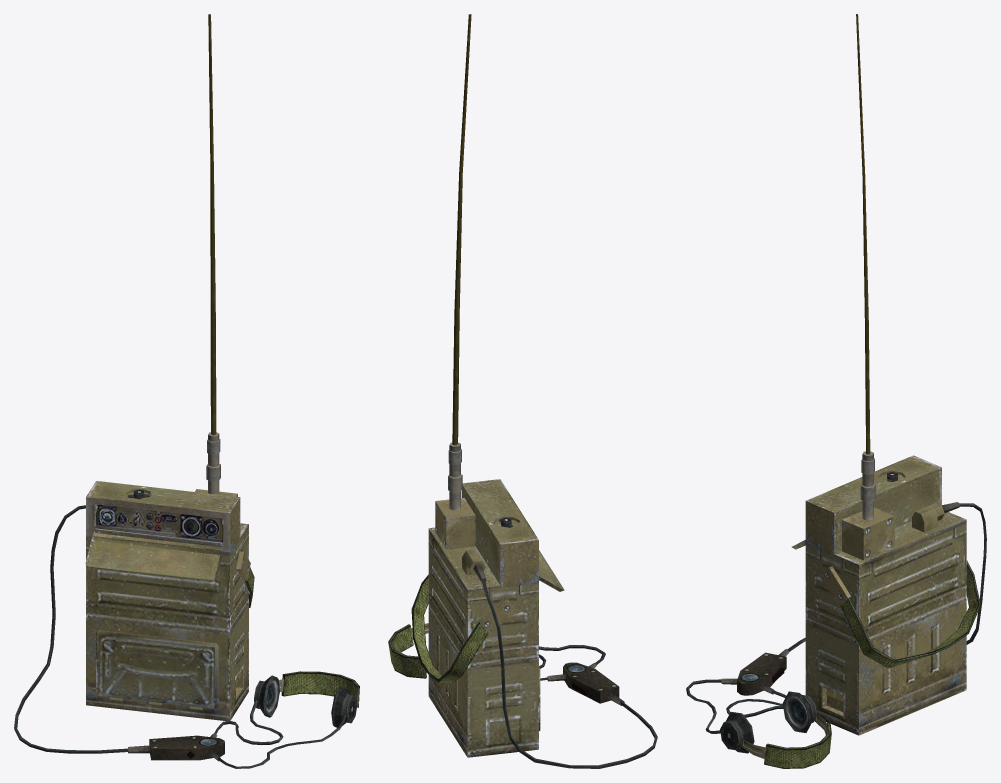
The model's file is Radio.FBX.
The picture shows the model from 3 angles, left to right: view 1: azimuth 30°, elevation 25°; view 2: azimuth 150°, elevation 25°; view 3: azimuth 270°, elevation 25°; orthographic projection. The views are drawn at different scales.
Parts seen in each view (by area): view 1: Radio; view 2: Radio; view 3: Radio.
Boxes of the visible parts, x1,y1,x2,y2 form: Radio: [14, 14, 359, 768]; Radio: [388, 14, 657, 768]; Radio: [686, 14, 986, 768].
Size of what is drawn, in the model's own units: 49.54 by 43.24 by 111.
